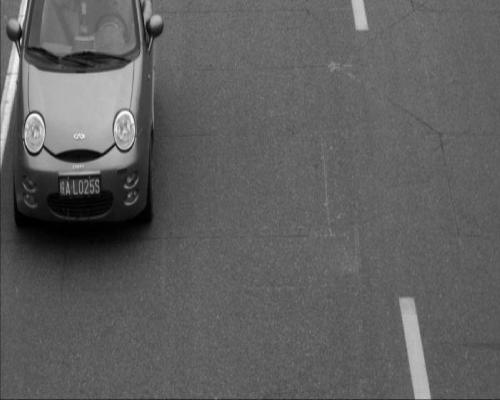Carplate: (54, 169, 104, 206)
